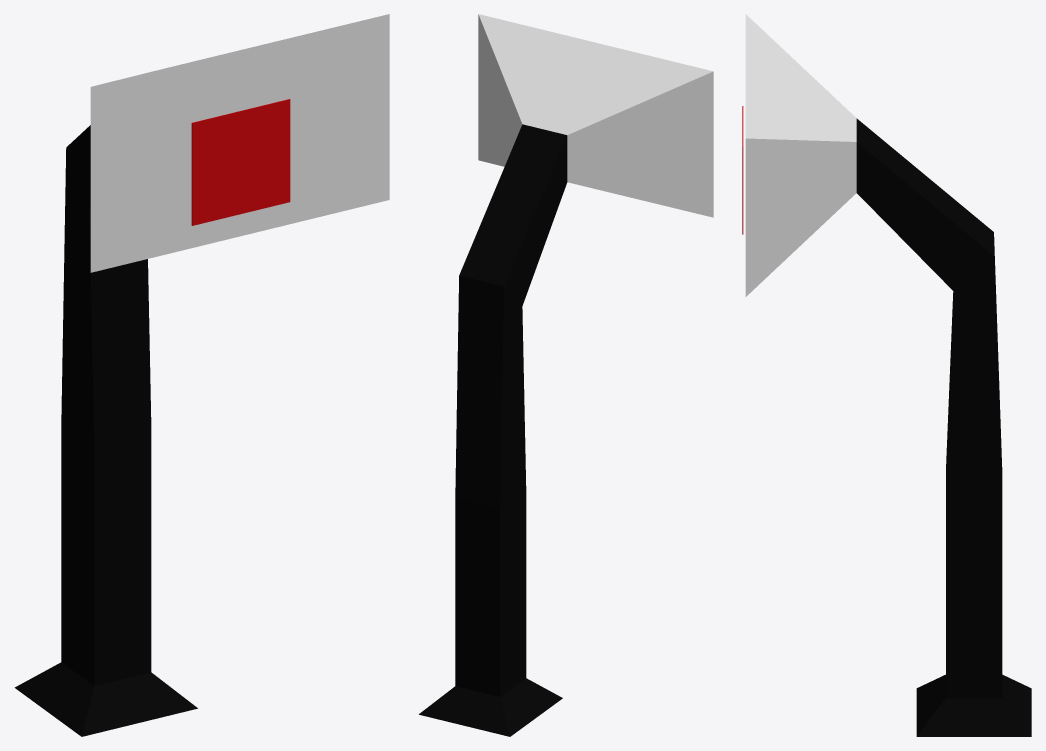
Rendered from hoopbody.fbx.
The picture shows the model from 3 angles, left to right: view 1: azimuth 30°, elevation 25°; view 2: azimuth 150°, elevation 25°; view 3: azimuth 270°, elevation 25°; orthographic projection. The views are drawn at different scales.
Parts seen in each view (by area): view 1: Cube, Cube.002, Cube.001; view 2: Cube, Cube.002; view 3: Cube, Cube.002.
Boxes of the visible parts, bbox=[...] form: Cube: bbox=[14, 125, 197, 736]; Cube.002: bbox=[90, 14, 389, 272]; Cube.001: bbox=[191, 99, 290, 225]; Cube: bbox=[419, 124, 567, 736]; Cube.002: bbox=[478, 14, 713, 217]; Cube: bbox=[856, 118, 1031, 736]; Cube.002: bbox=[745, 14, 856, 296].
Size of the model in its own units: 512 by 1221 by 503.
